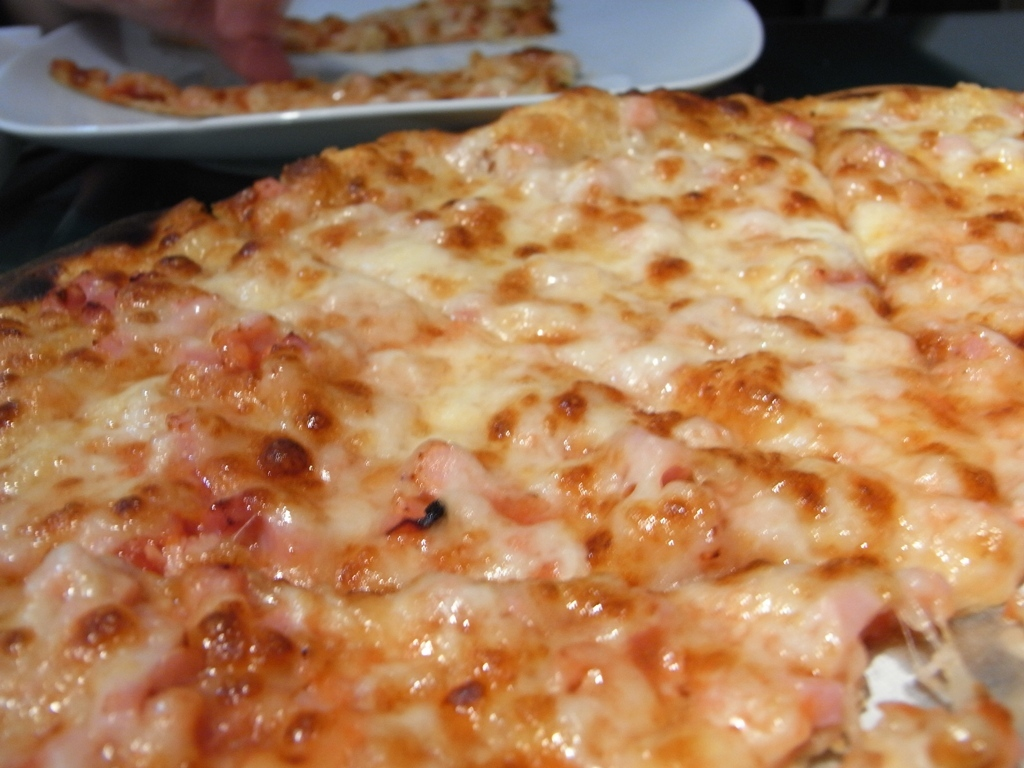Pizza: (0, 84, 1024, 765)
